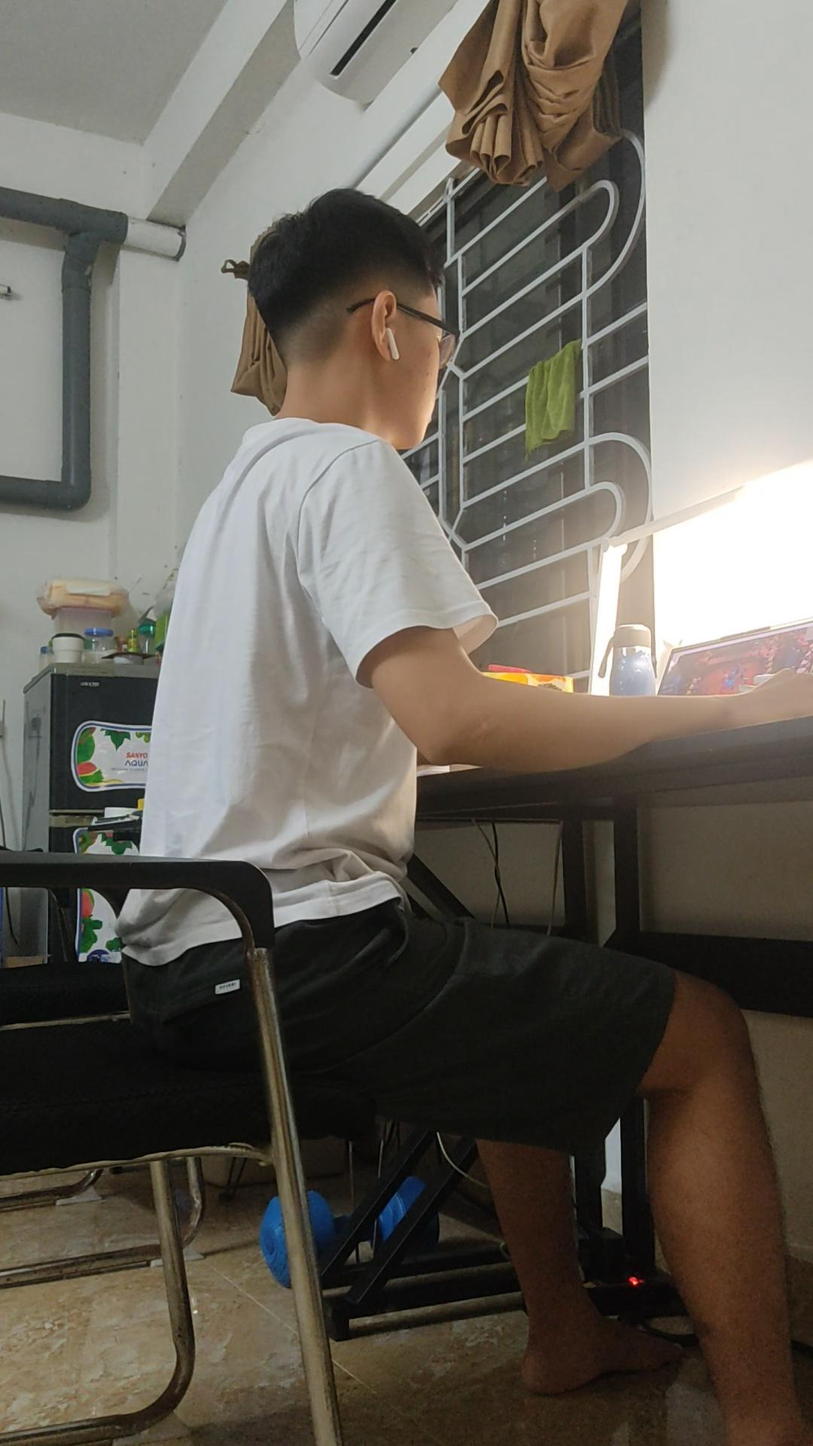GoodPosture: (142, 191, 812, 1445)
